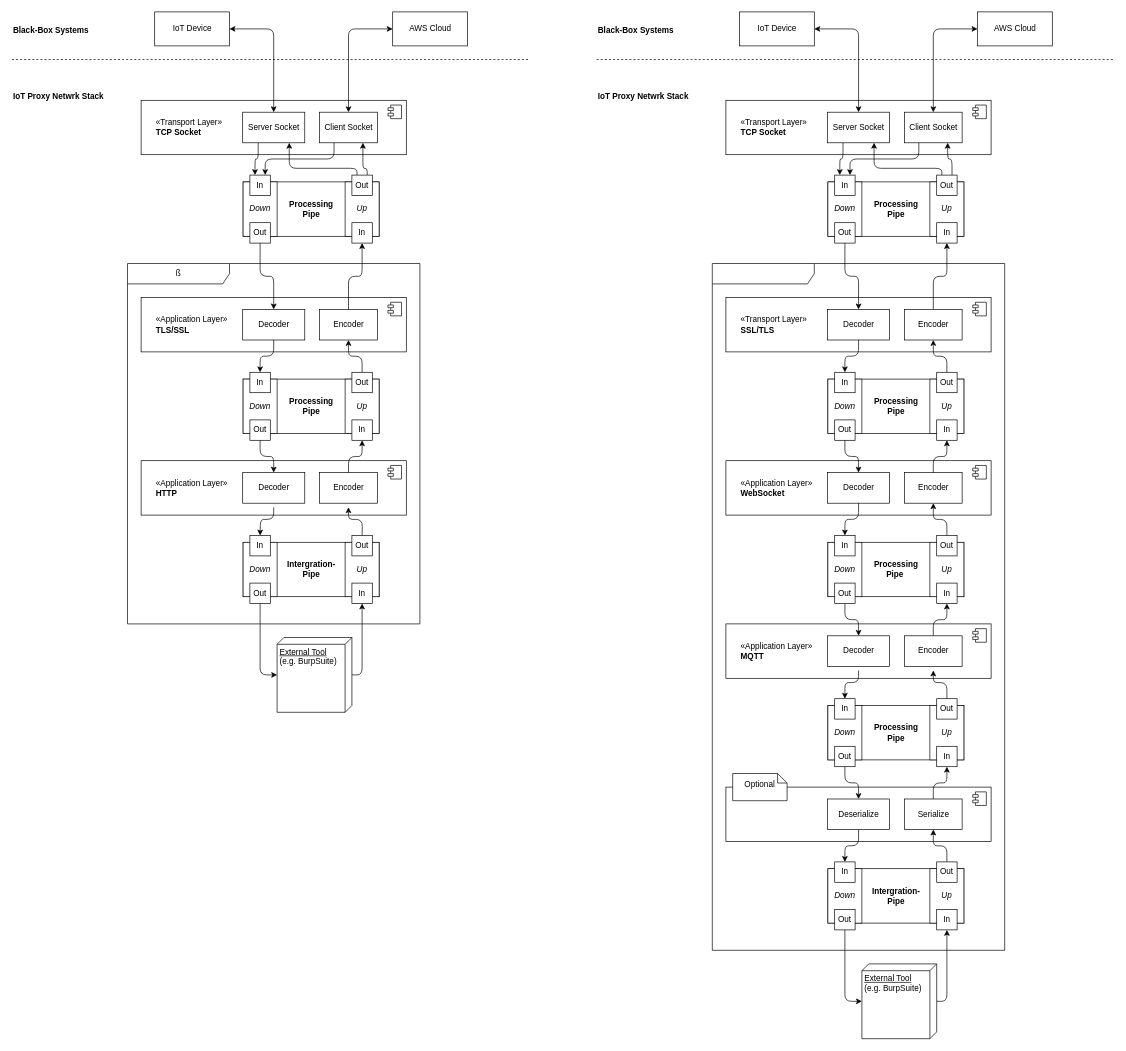
This 1126x1051 diagram has some shape labels left out. The box of each missing label's shape, as (x1, y1, x2, y2) in pixels:
State 2 - MQTT via WS: (712, 263, 1005, 950)
«Serialization Layer» JSON: (725, 786, 991, 842)
